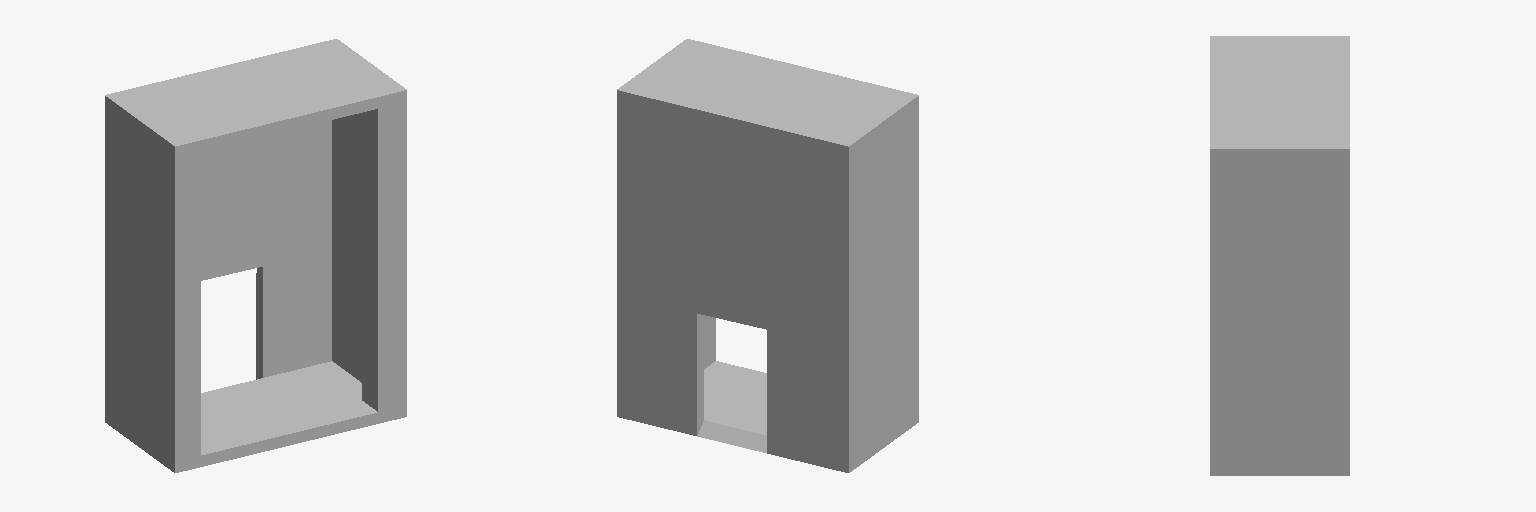
The model's file is door_connector_corridor_place your doorway or doorframe within this.obj.
3 renders of one model, left to right at view 1: azimuth 30°, elevation 25°; view 2: azimuth 150°, elevation 25°; view 3: azimuth 270°, elevation 25°, orthographic.
Parts seen in each view (by area): view 1: Form31; view 2: Form31; view 3: Form31.
Boxes of the visible parts, x1,y1,x2,y2 form: Form31: [105, 39, 406, 472]; Form31: [617, 39, 918, 472]; Form31: [1210, 36, 1349, 475].
Size of the model in its own units: 203 by 273 by 107.